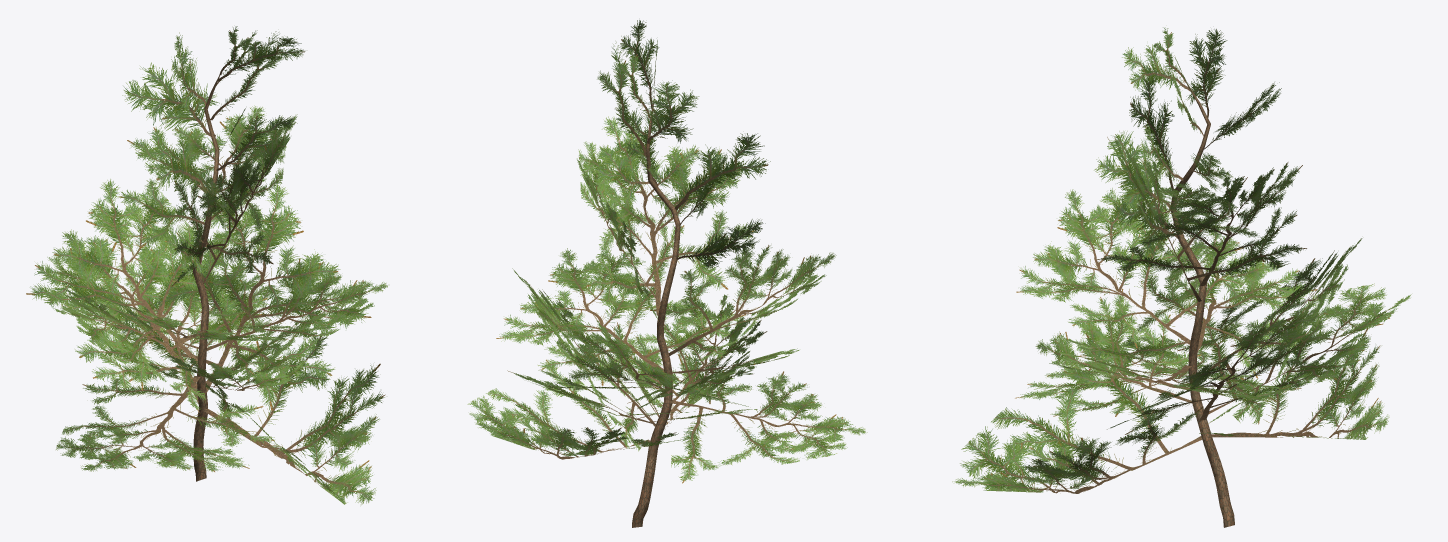
3 views of the same model, side by side, from view 1: azimuth 30°, elevation 25°; view 2: azimuth 150°, elevation 25°; view 3: azimuth 270°, elevation 25° (orthographic). The views are drawn at different scales.
Parts seen in each view (by area): view 1: Pine_sapling_3_LOD2_Bark_Mat_0; view 2: Pine_sapling_3_LOD2_Bark_Mat_0; view 3: Pine_sapling_3_LOD2_Bark_Mat_0.
Part boxes in pixels (box(x1,y1,x2,y2)): Pine_sapling_3_LOD2_Bark_Mat_0: box(26, 26, 387, 504); Pine_sapling_3_LOD2_Bark_Mat_0: box(467, 20, 867, 527); Pine_sapling_3_LOD2_Bark_Mat_0: box(952, 27, 1411, 527).
Bounding box in the file's own units: 1.11 × 1.51 × 1.37.
